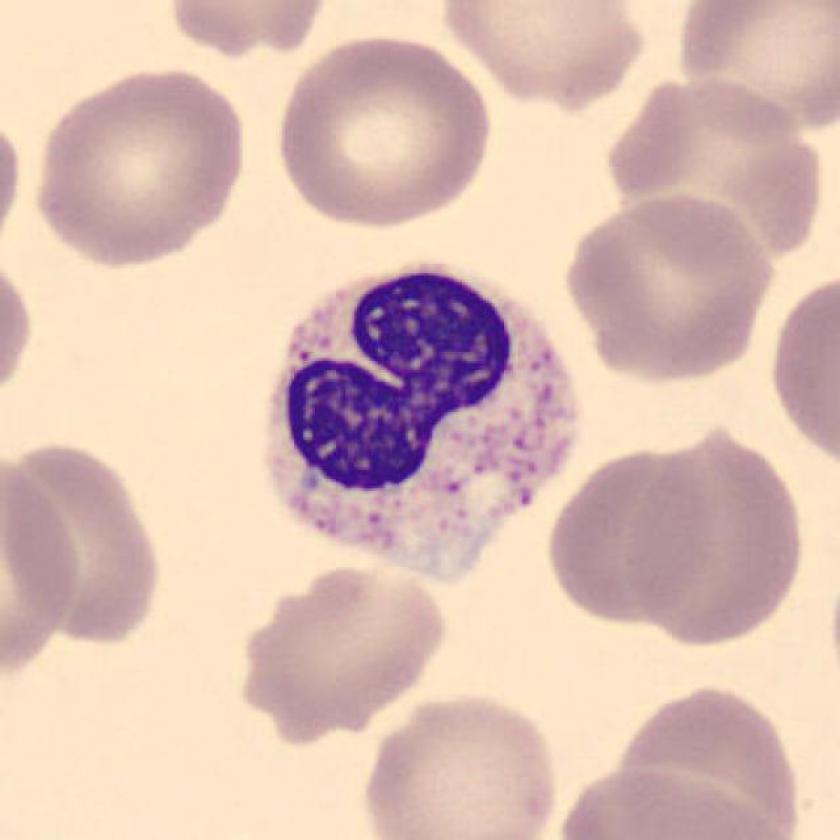neutrophil: (262, 263, 576, 580)
